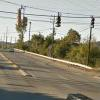Traffic light: (49, 8, 100, 37)
